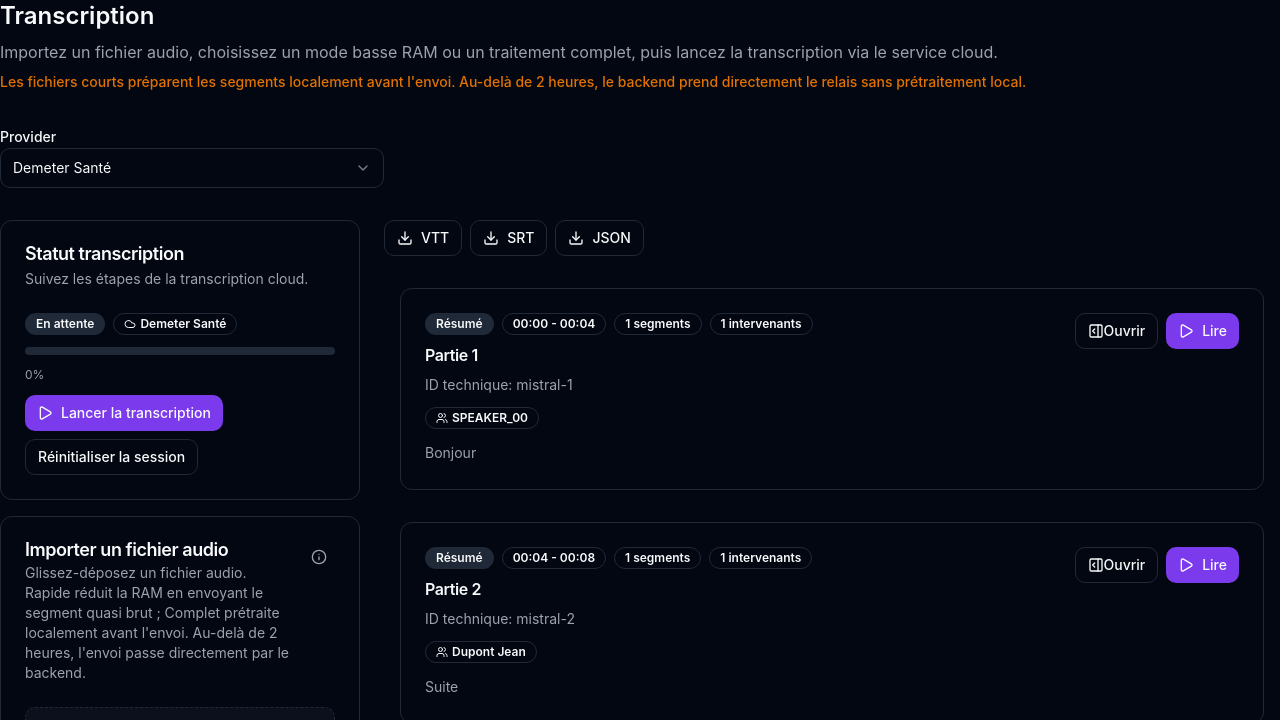
CloudUploadPage › updates only the local chunk speaker assignments from a chunk card
Click the button "Ouvrir" in the row of "00:00 - 00:04" at (1116, 331), box [1074, 313, 1158, 349]
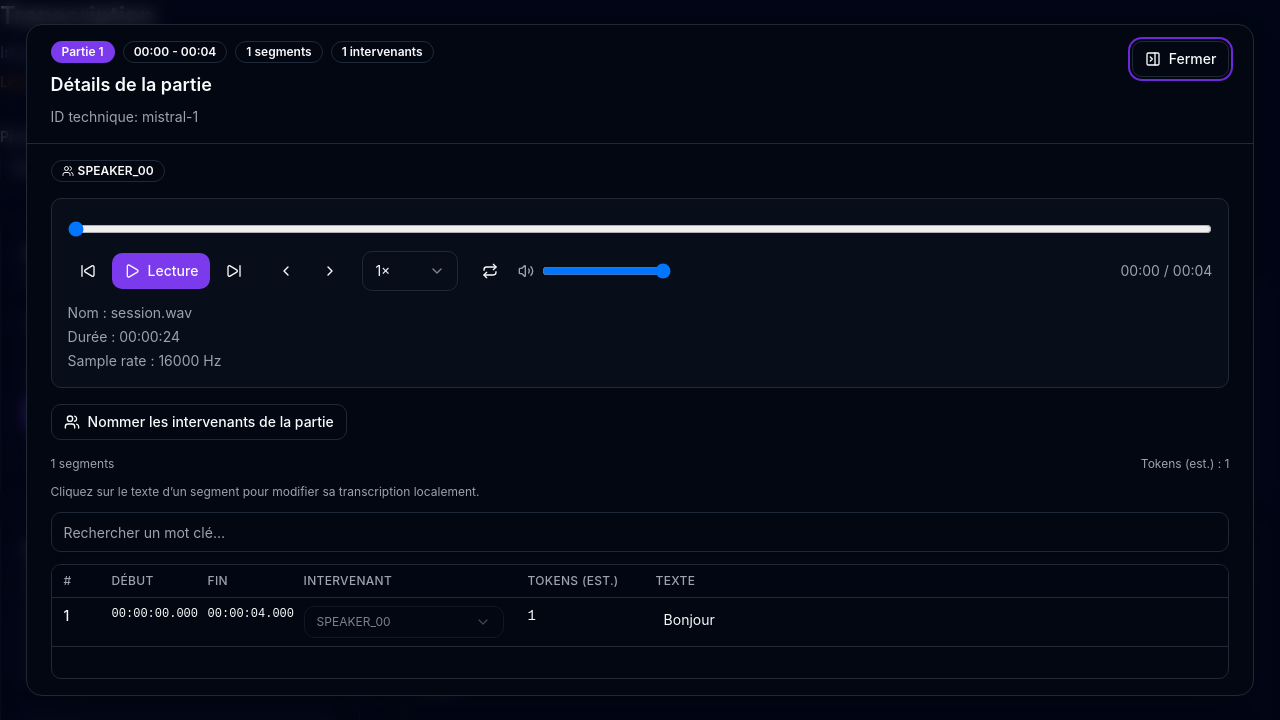
Expected: the column heading "Intervenant" is shown, [304, 573, 392, 588]
Click the button "Nommer les intervenants de la partie" at (199, 422), box [51, 404, 347, 440]
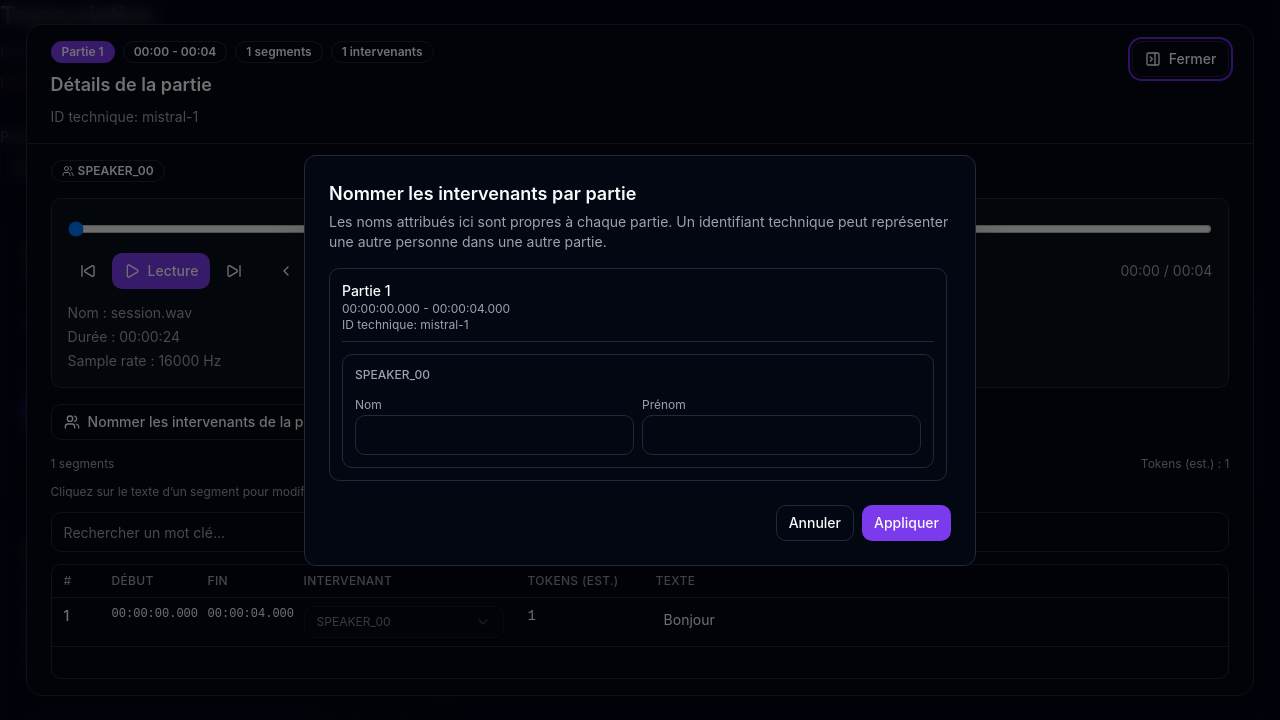
Type "Martin" into the field named "Nom Partie 1 SPEAKER_00" at (494, 434), box [355, 414, 634, 454]
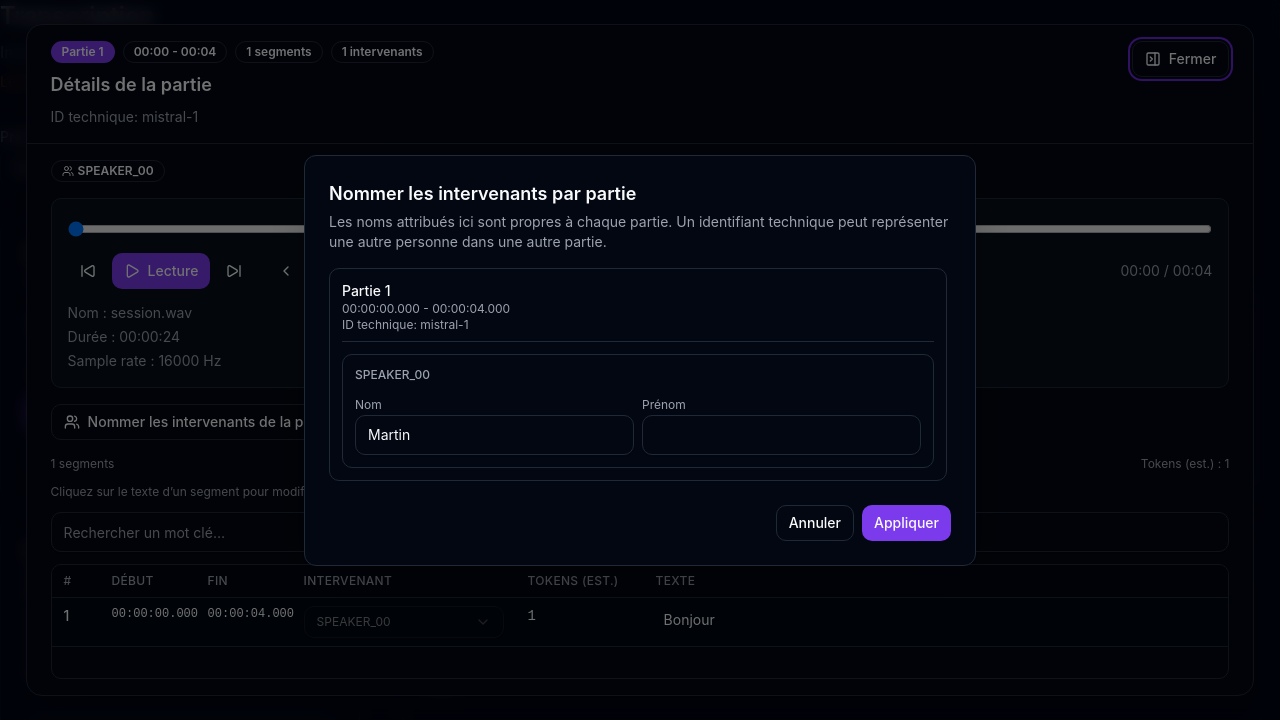
Type "Alice" into the field named "Prénom Partie 1 SPEAKER_00" at (782, 434), box [642, 414, 921, 454]
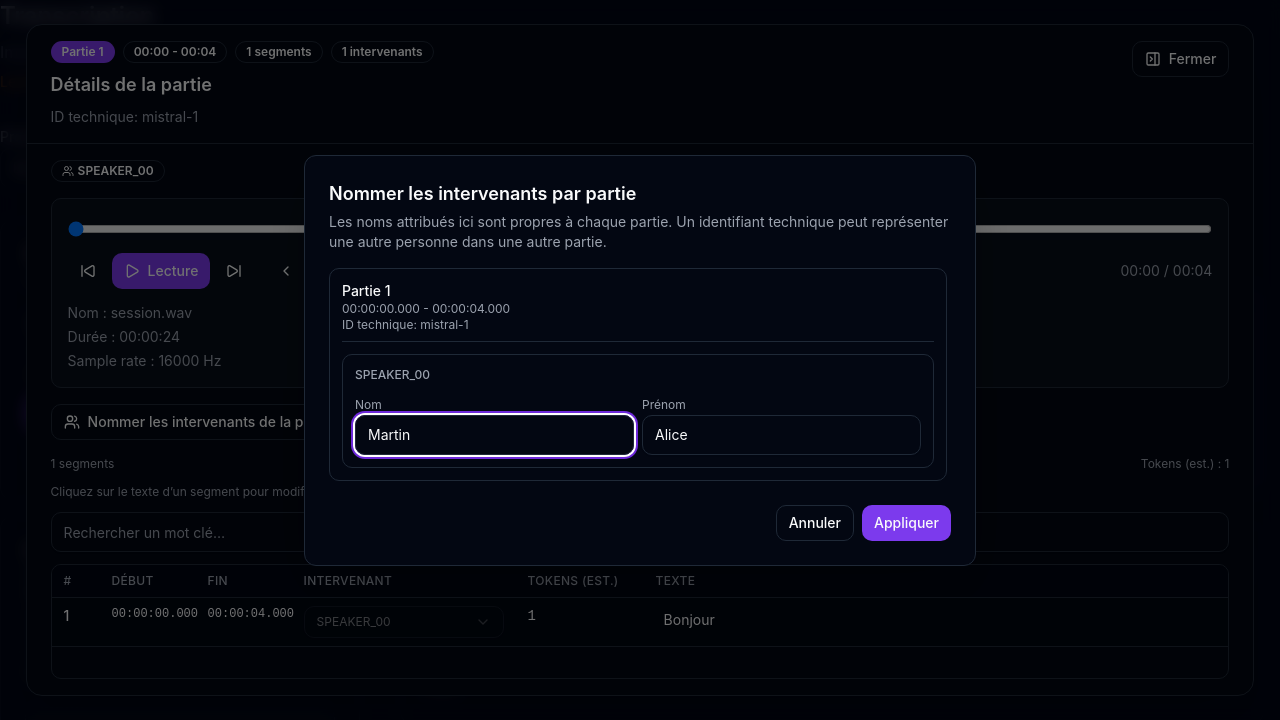
Click the button "Appliquer" at (906, 522), box [862, 504, 951, 540]
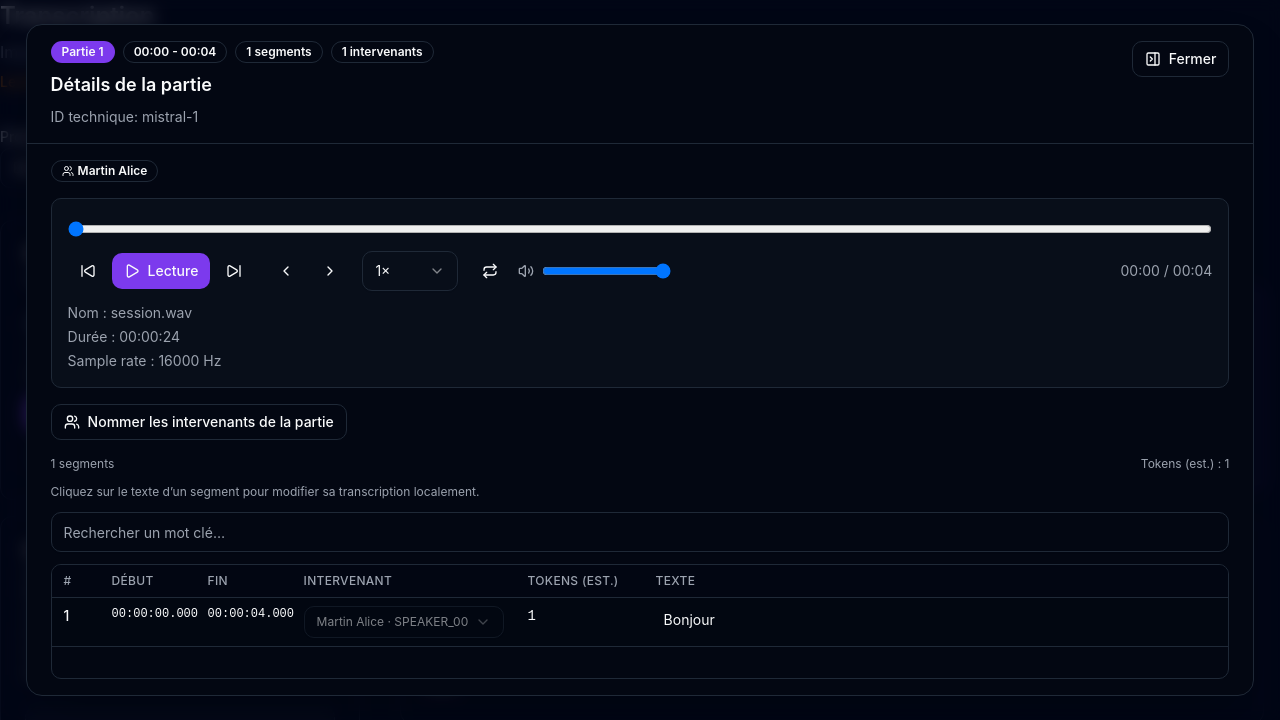
Expected: the heading "Nommer les intervenants par partie" is gone
